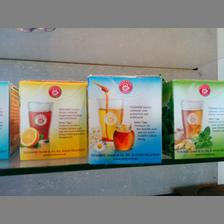Tee: (84, 72, 162, 164), (19, 80, 86, 160), (164, 79, 224, 159)
